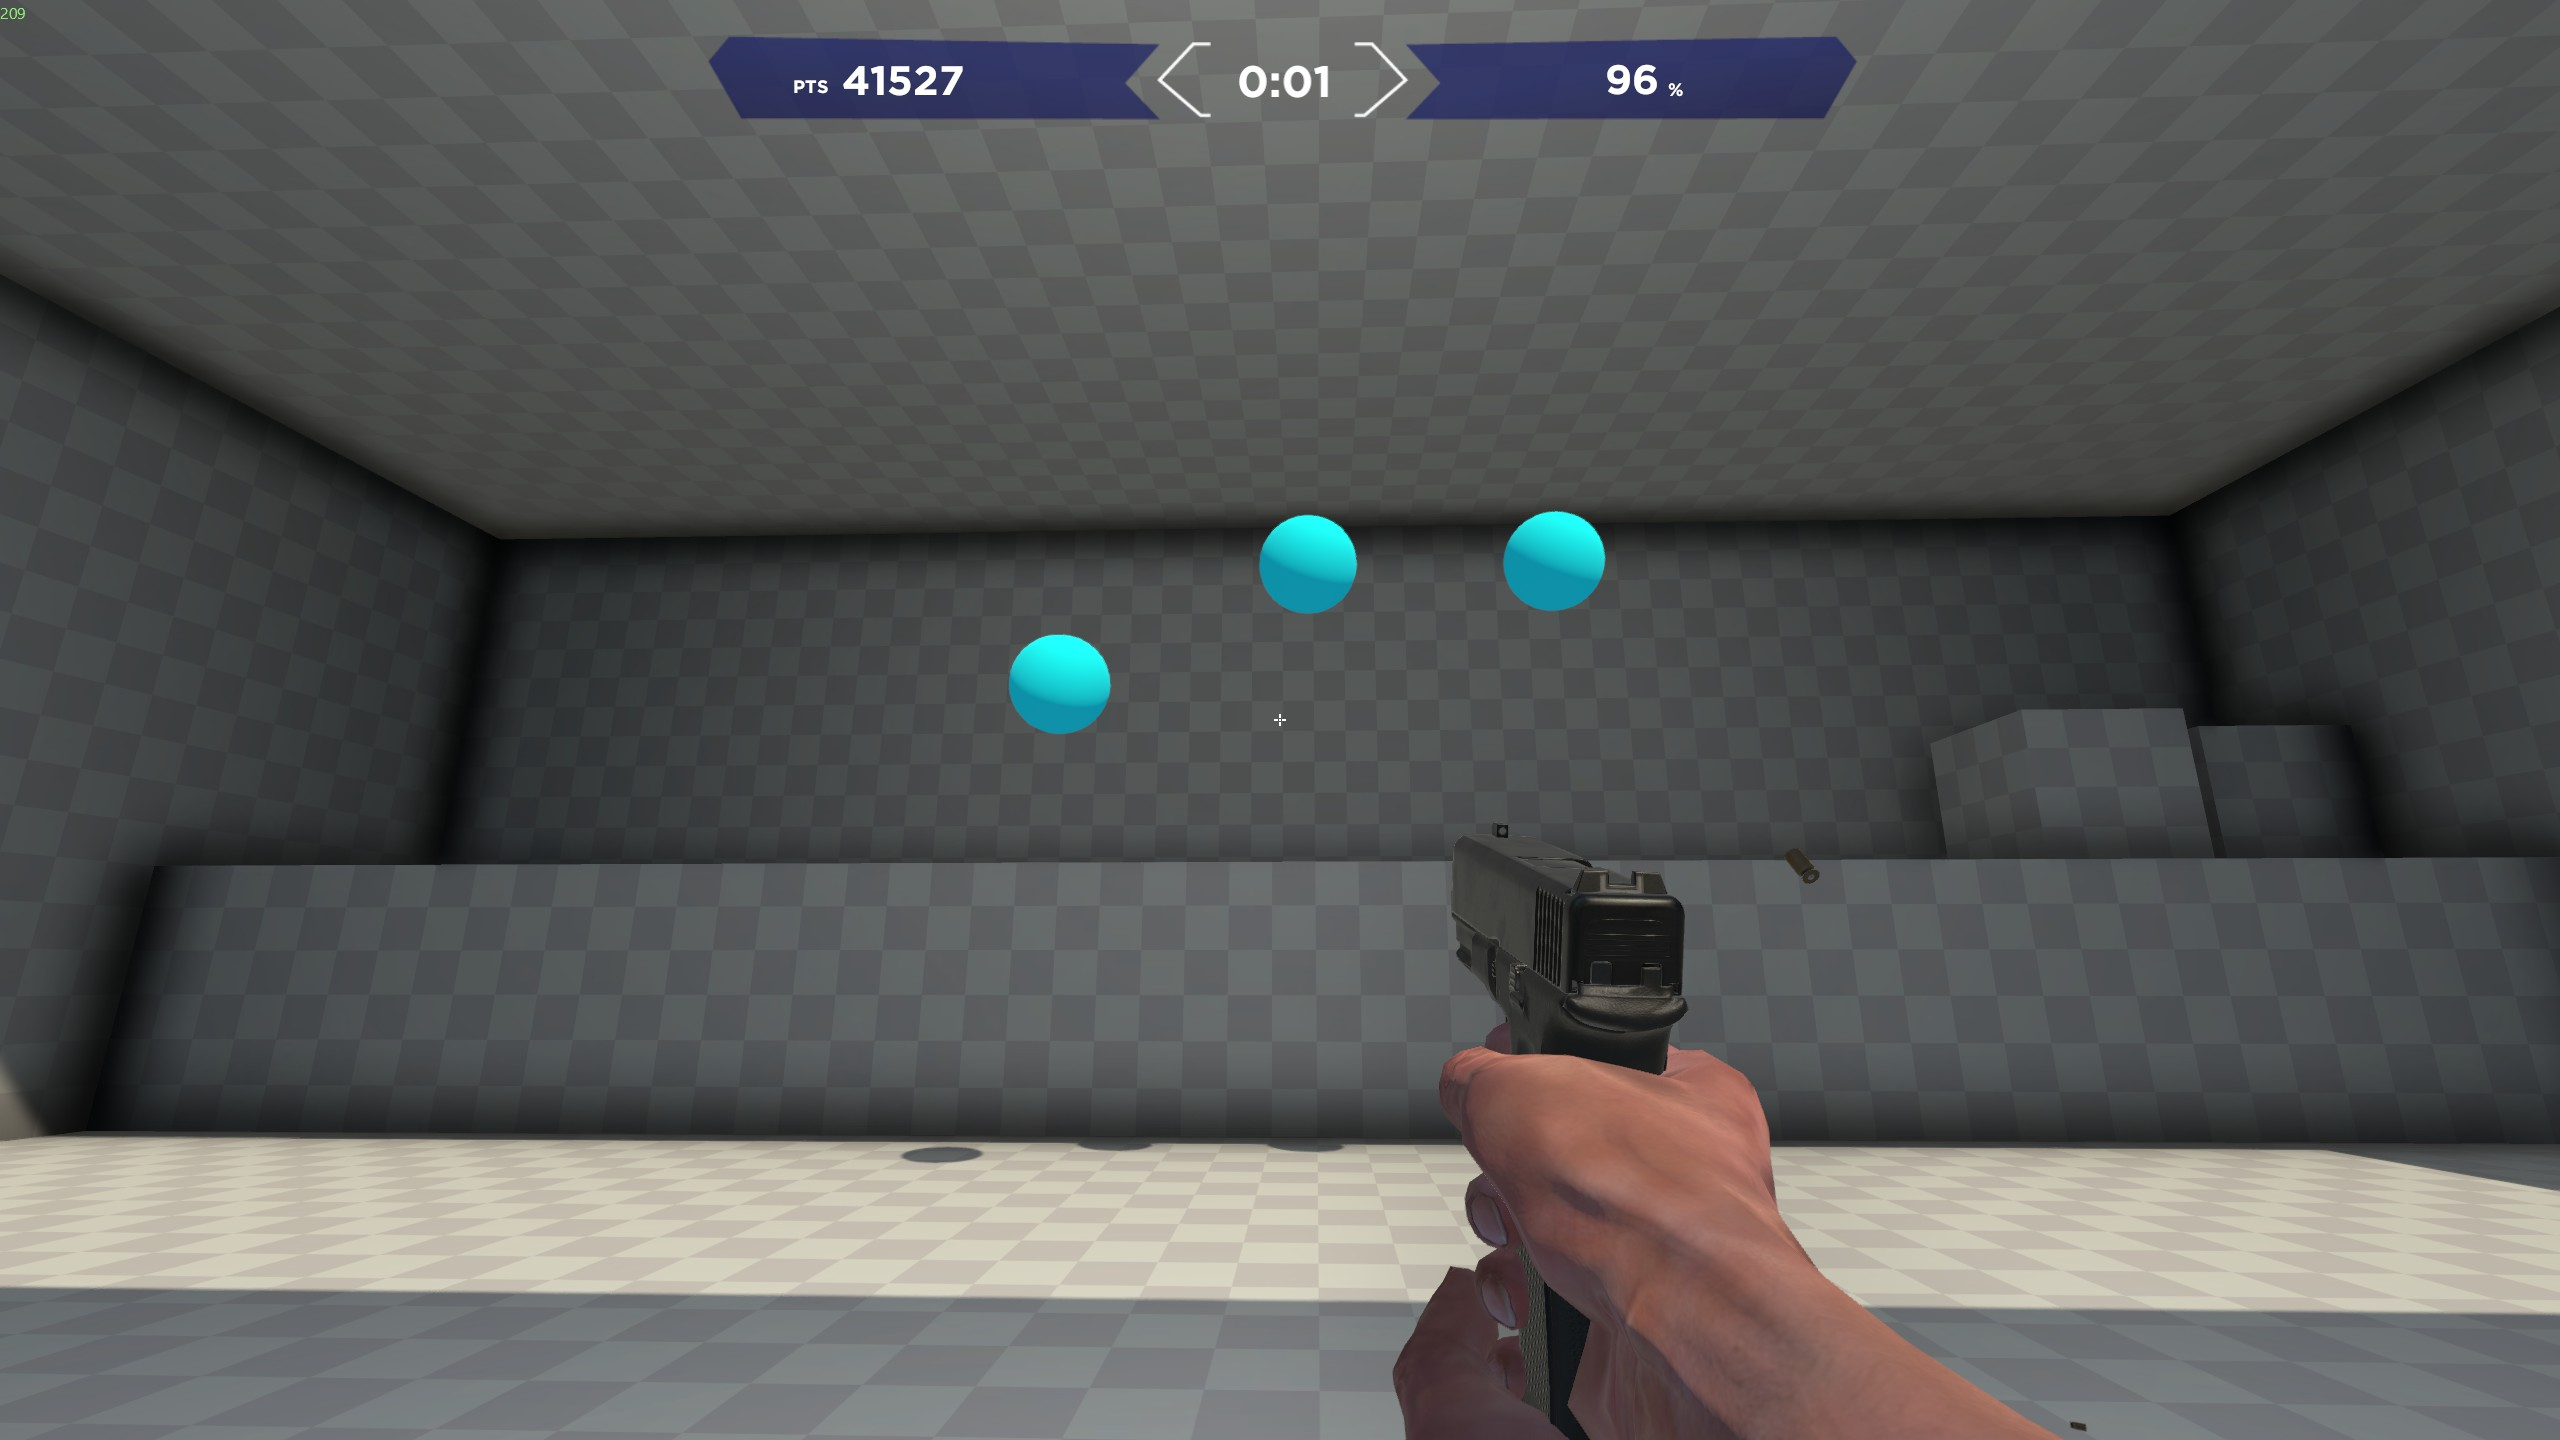Target: (1489, 505, 1618, 633), (1255, 499, 1364, 615), (1002, 628, 1116, 737)
